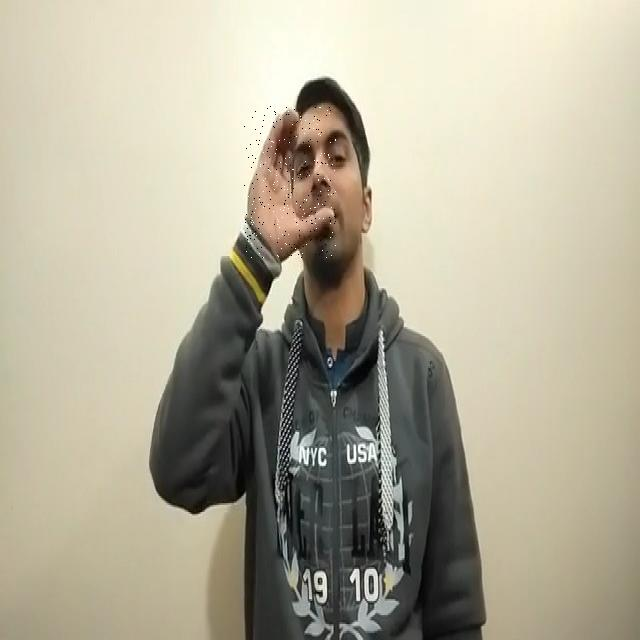drink: (244, 106, 336, 258)
